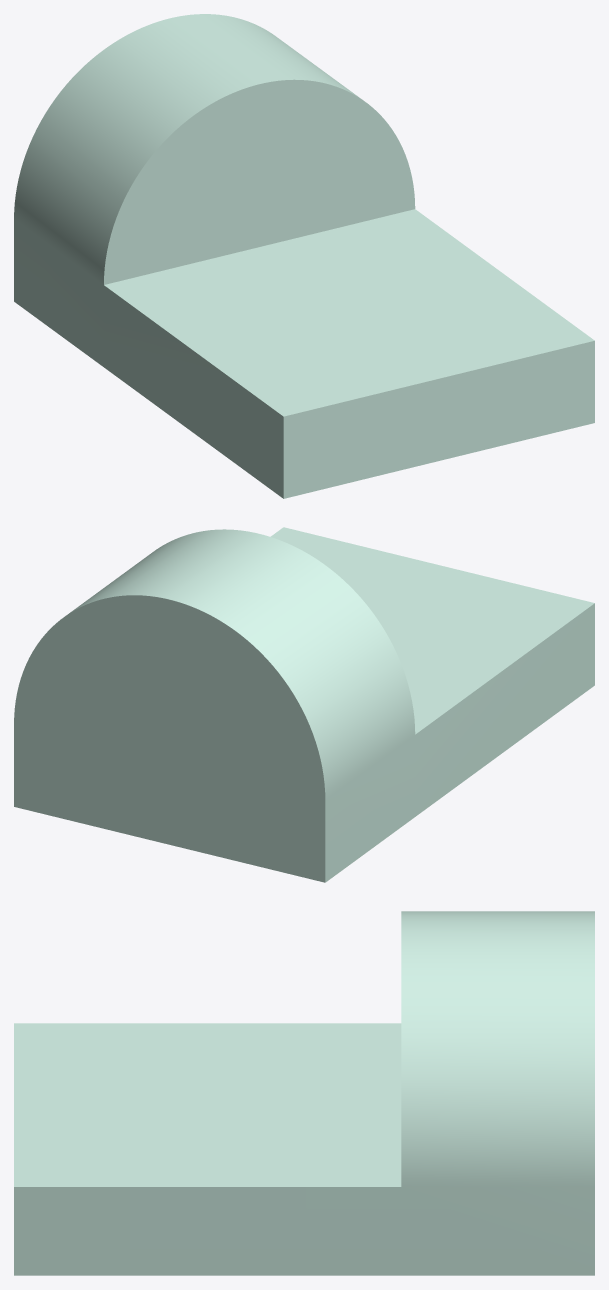
3 renders of one model, top to bottom at view 1: azimuth 30°, elevation 25°; view 2: azimuth 150°, elevation 25°; view 3: azimuth 270°, elevation 25°, orthographic. The views are drawn at different scales.
Visible parts, largest first — view 1: Renderer Node; view 2: Renderer Node; view 3: Renderer Node.
Boxes of the visible parts, x1,y1,x2,y2 form: Renderer Node: (14, 14, 594, 498); Renderer Node: (14, 527, 594, 882); Renderer Node: (14, 911, 594, 1275).
Bounding box in the file's own units: 0.75 × 0.5644 × 1.13.
